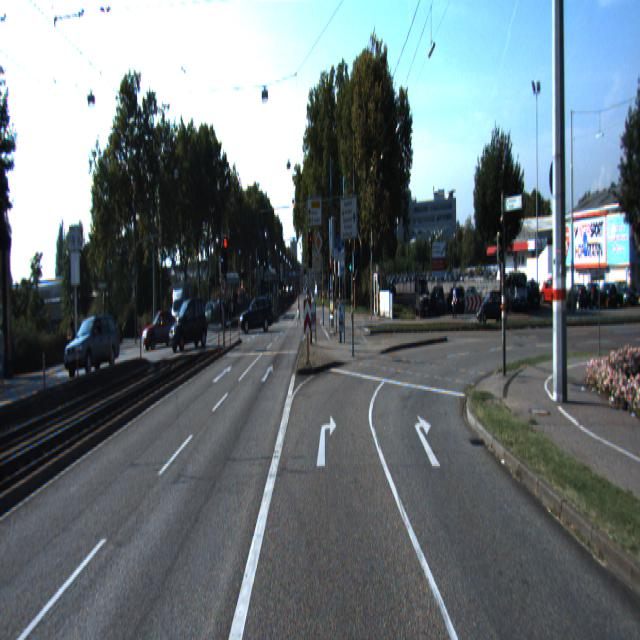Car: (64, 312, 122, 382), (169, 298, 208, 352), (142, 307, 181, 352), (238, 294, 275, 334), (474, 286, 506, 322)
